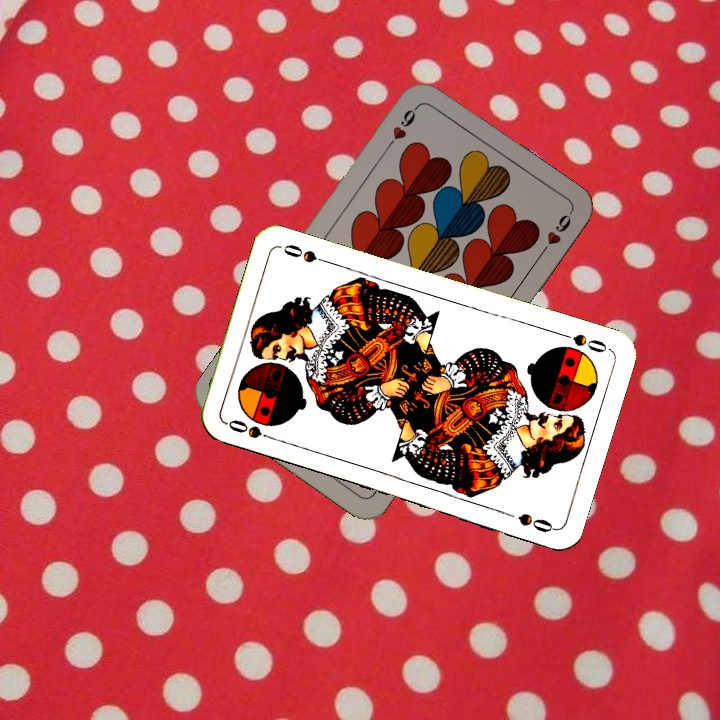H9: (381, 102, 421, 153)
SO: (223, 415, 280, 444), (554, 328, 612, 356)
